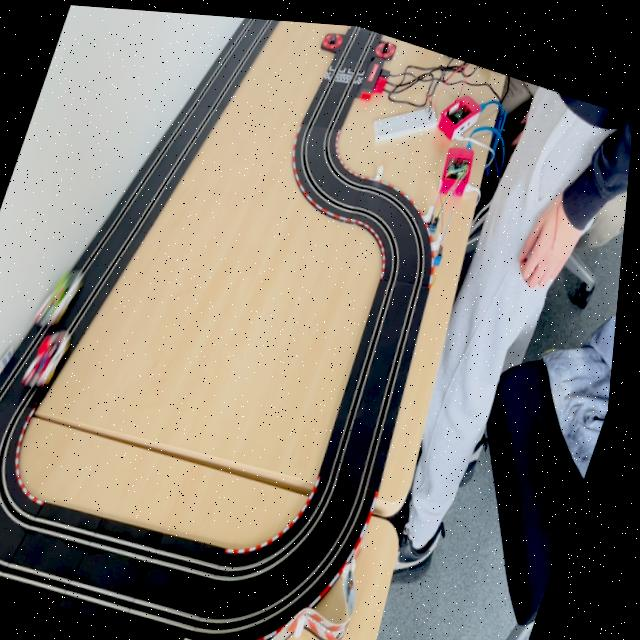mario: (26, 315, 83, 397)
yoshi: (42, 261, 94, 327)
